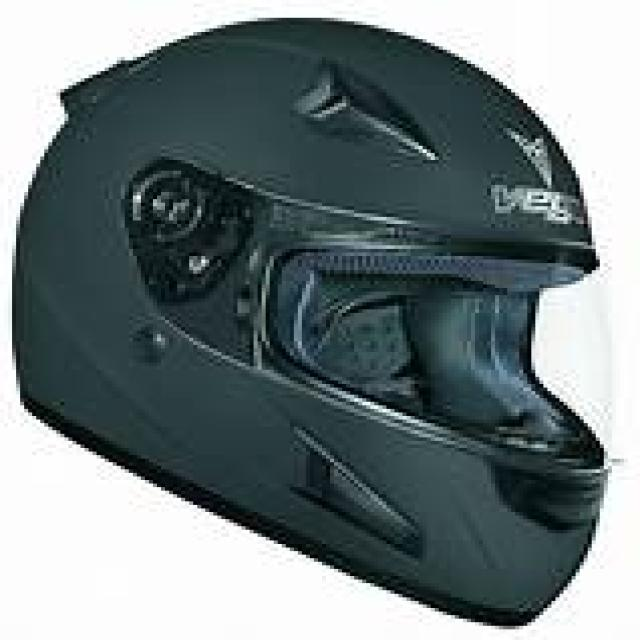helmet: (12, 18, 604, 622)
